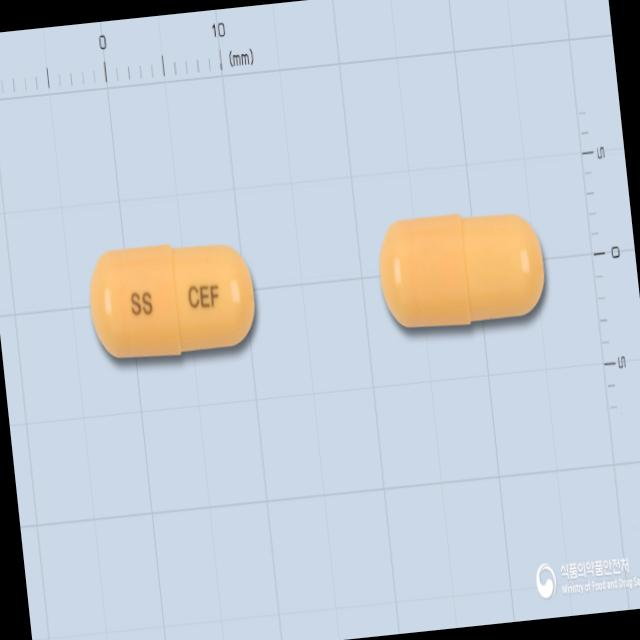Cefixime Cap- Samsung: (82, 228, 266, 374)
